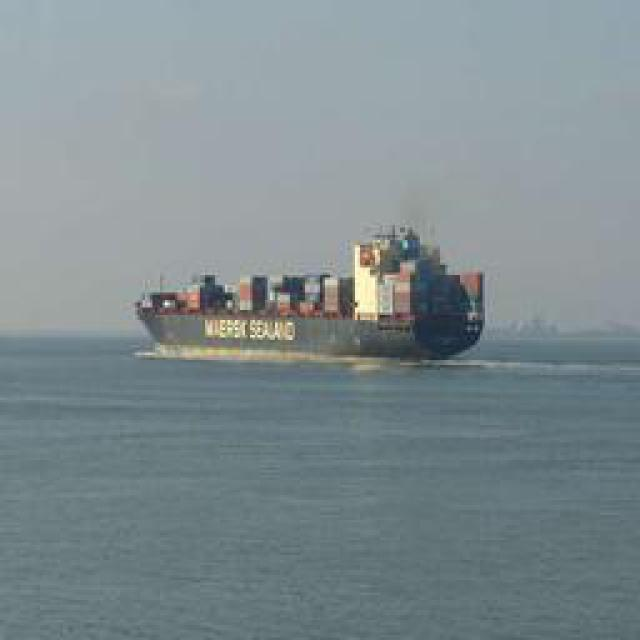Ship: (130, 224, 488, 364)
